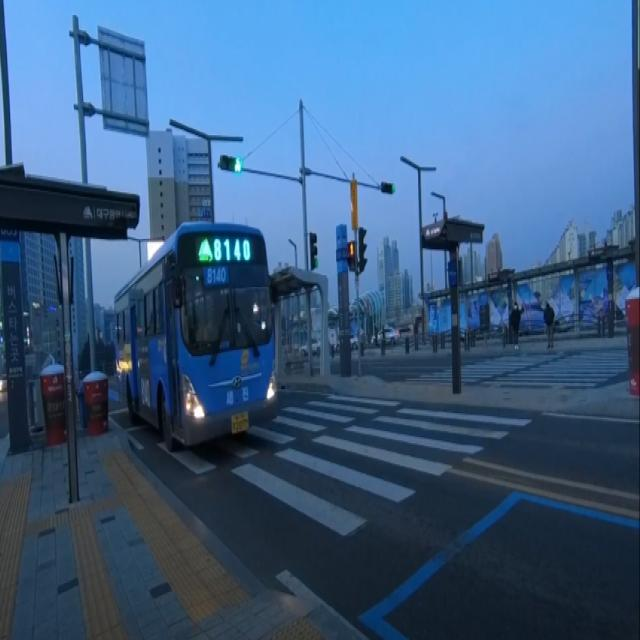bus-number: (213, 236, 251, 262)
